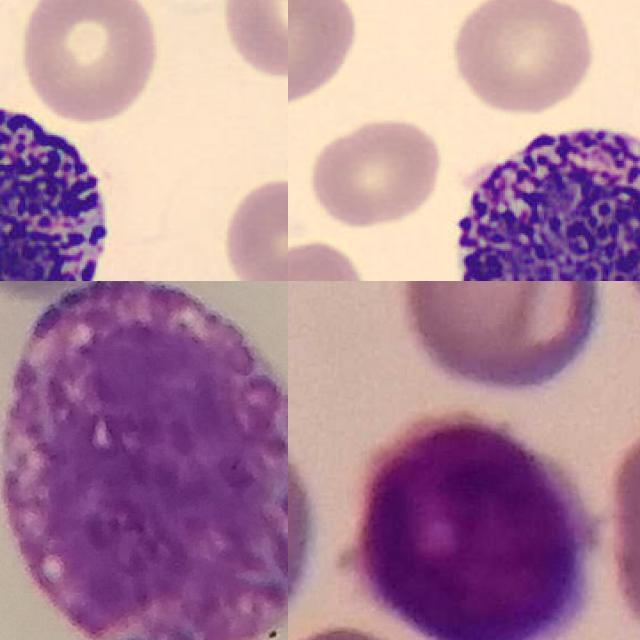Basophil: (0, 281, 288, 640), (435, 106, 640, 281), (0, 78, 124, 281)
Lymphocyte: (348, 411, 596, 640)
RBC: (14, 0, 161, 124), (446, 0, 599, 119), (304, 112, 446, 230), (96, 0, 288, 57), (288, 0, 361, 113), (215, 171, 288, 281), (215, 0, 288, 85), (288, 233, 373, 281)
